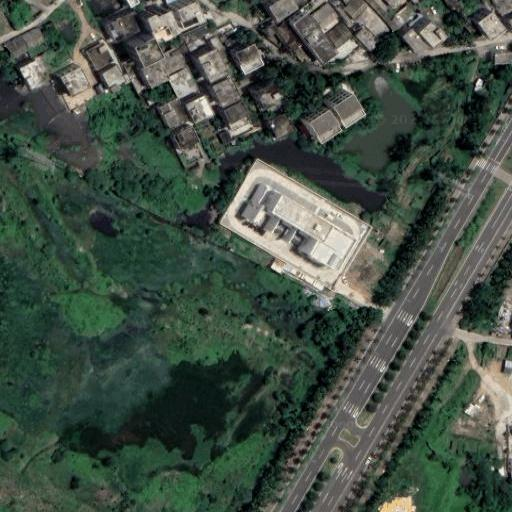building: (270, 194, 334, 243), (293, 12, 339, 64), (234, 177, 277, 225), (365, 0, 406, 34), (108, 12, 143, 43), (198, 49, 229, 84), (60, 65, 92, 98), (324, 225, 357, 256), (212, 78, 242, 110), (0, 73, 21, 116), (334, 93, 364, 123), (19, 59, 48, 90), (168, 68, 197, 99), (315, 243, 347, 271), (160, 98, 189, 128), (477, 12, 506, 42), (149, 11, 182, 37), (135, 39, 164, 68), (185, 94, 214, 123), (309, 110, 339, 138), (86, 42, 114, 71), (373, 491, 410, 512), (172, 126, 200, 153), (420, 21, 447, 49), (311, 2, 338, 28), (355, 25, 381, 52), (269, 113, 295, 139), (403, 28, 428, 55), (178, 1, 207, 24), (326, 22, 352, 47), (5, 35, 30, 59), (223, 102, 249, 125), (256, 84, 281, 107), (237, 43, 262, 66), (102, 65, 127, 87), (22, 27, 45, 48), (277, 26, 298, 49), (343, 0, 367, 20), (241, 57, 263, 75), (319, 126, 341, 143), (229, 115, 252, 131), (345, 110, 365, 127), (492, 0, 512, 17), (262, 23, 277, 39), (218, 129, 232, 144), (495, 53, 512, 64), (503, 361, 512, 375), (95, 84, 104, 94)
